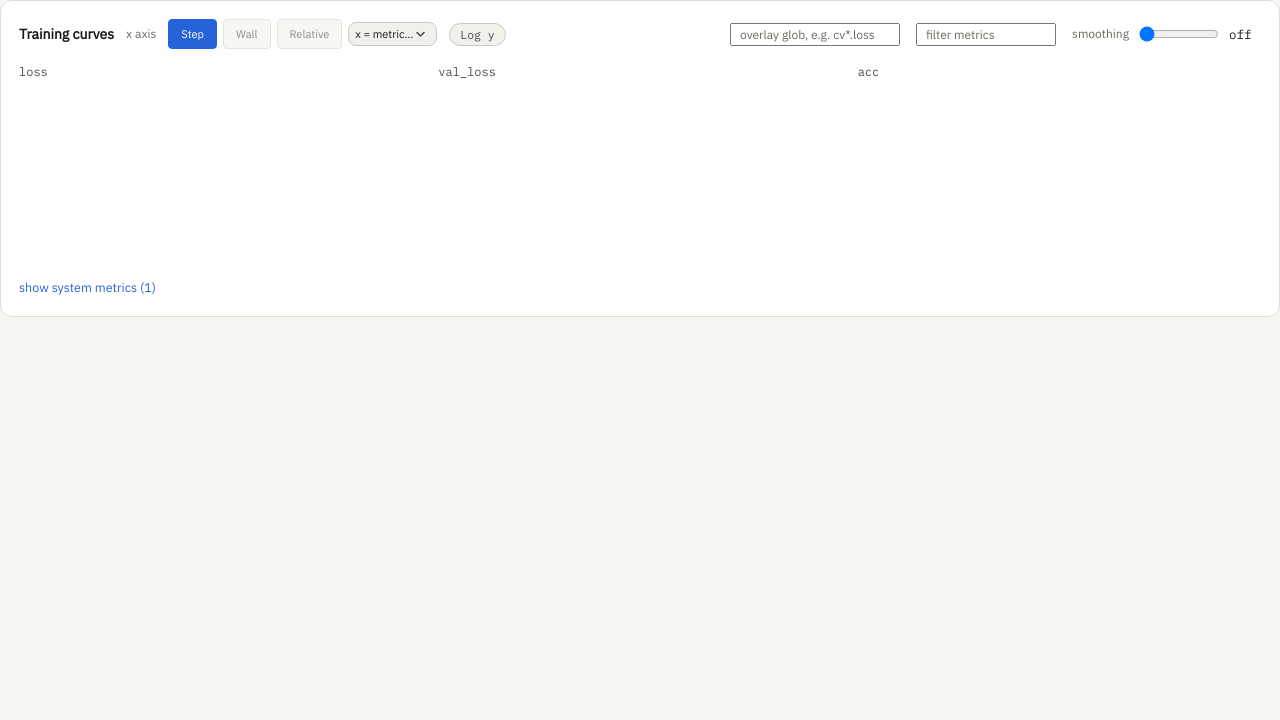
Test: TrainingCurves small multiples › keeps sys_* metrics in their own section until asked for
Step 1. Click the button "show system metrics (1)" → click(87, 287), box left=19, top=279, right=156, bottom=295
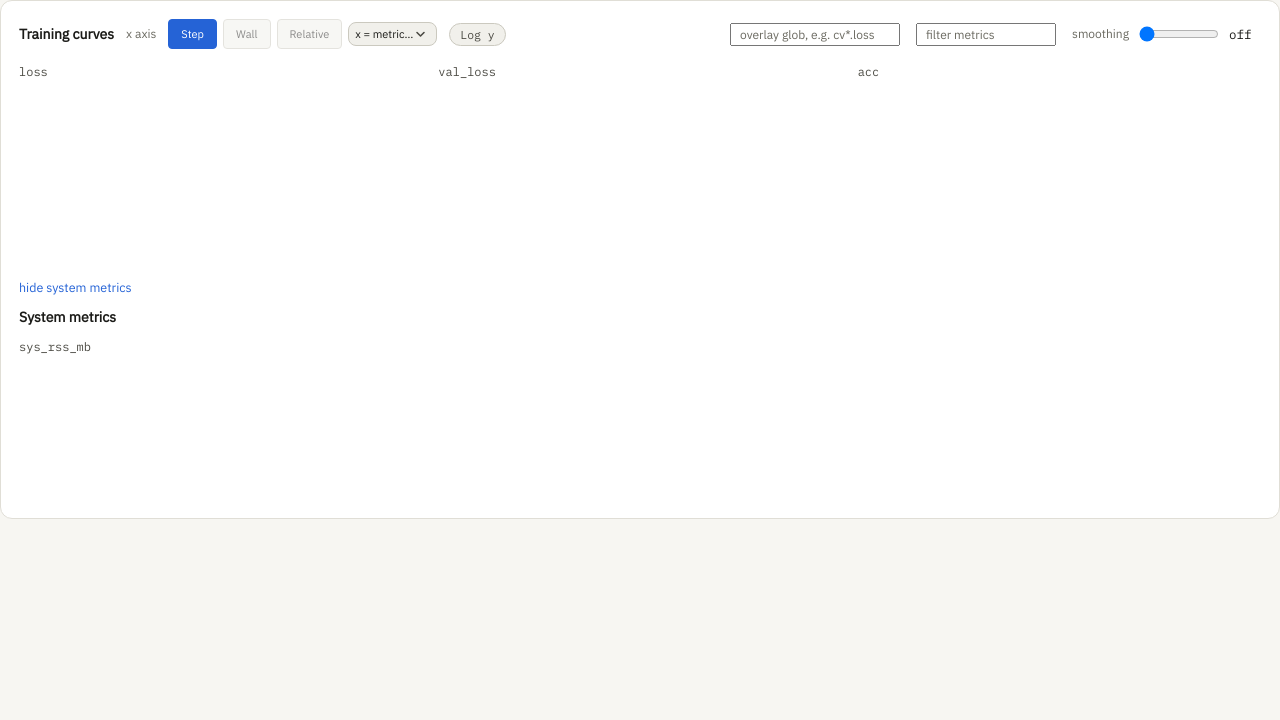
Check: the text "sys_rss_mb" is shown, box left=19, top=339, right=91, bottom=354
